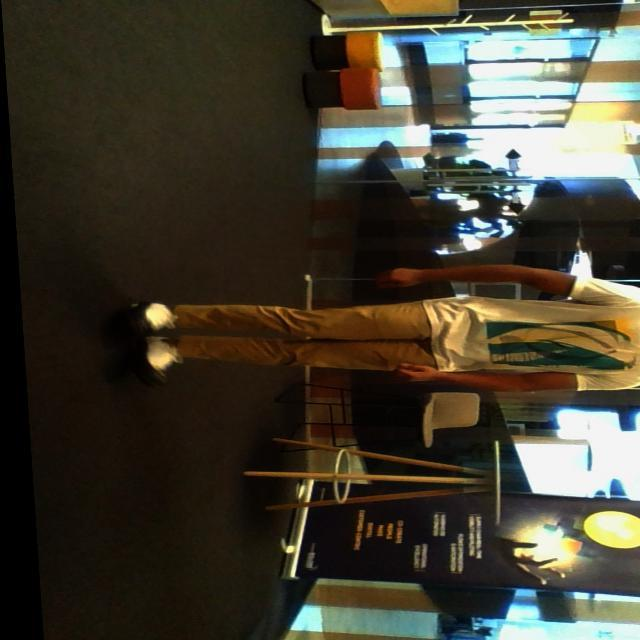shoes: (109, 328, 186, 388), (115, 292, 175, 336)
